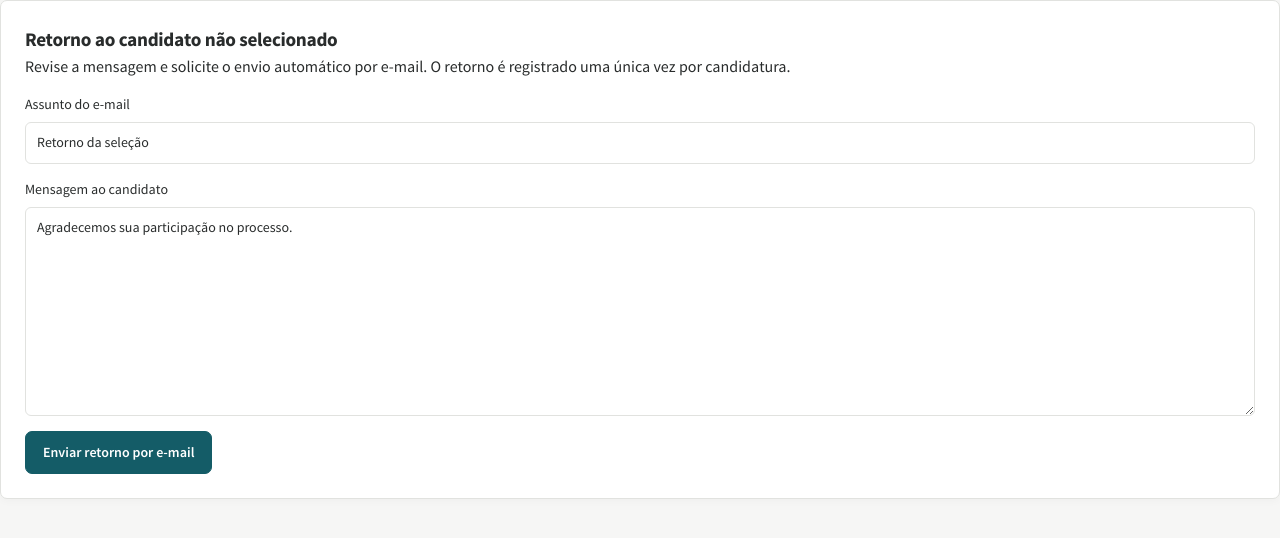
Test case: permite revisar o retorno e bloqueia novo envio após entrar na fila
The width and height of the screenshot is (1280, 538).
Replace the text in the text box labelled "Mensagem ao candidato" with "Mensagem revisada pelo RH para o candidato.": x=640, y=311 [25,207,1255,416]
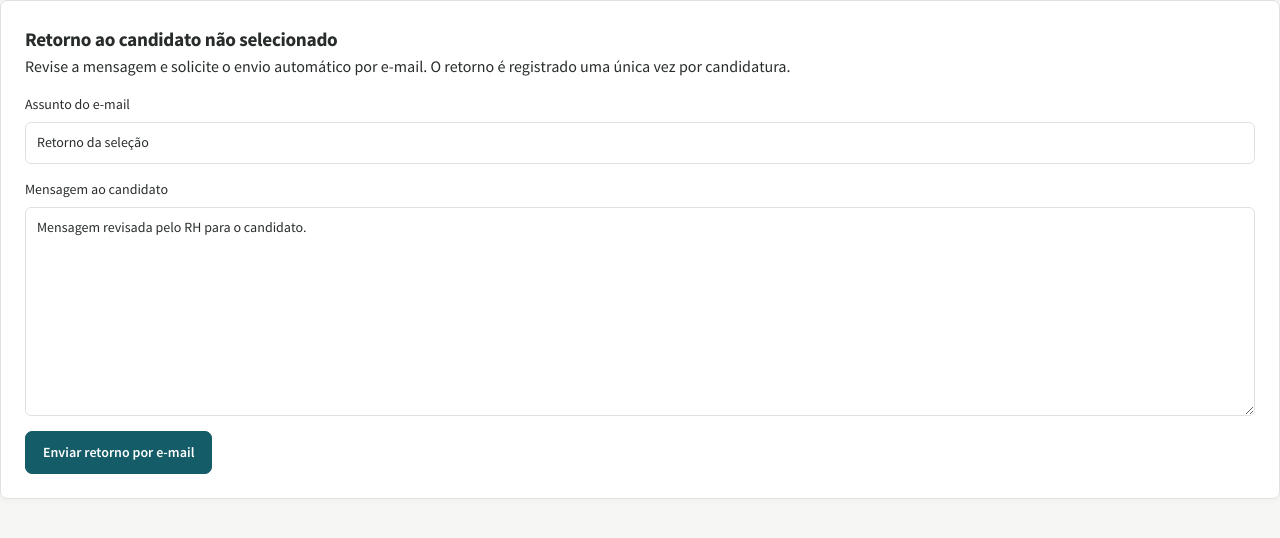
Click the button "Enviar retorno por e-mail": x=119, y=452 [25,431,212,474]
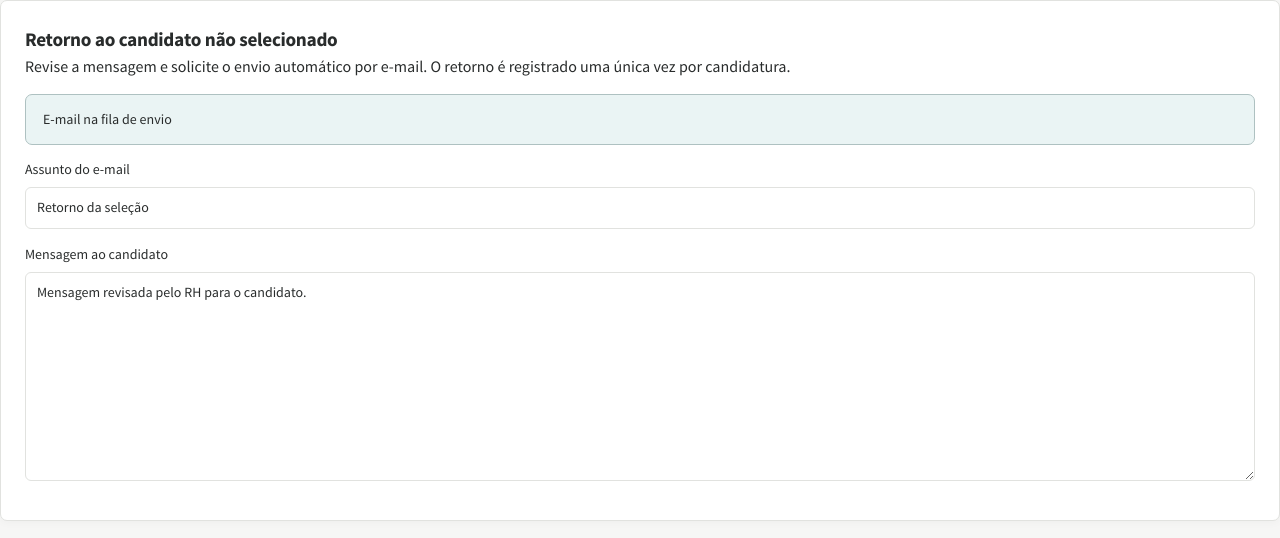
Check: the text "E-mail na fila de envio" is shown, box [25,94,1255,145]
Check: the button "Enviar retorno por e-mail" is gone
